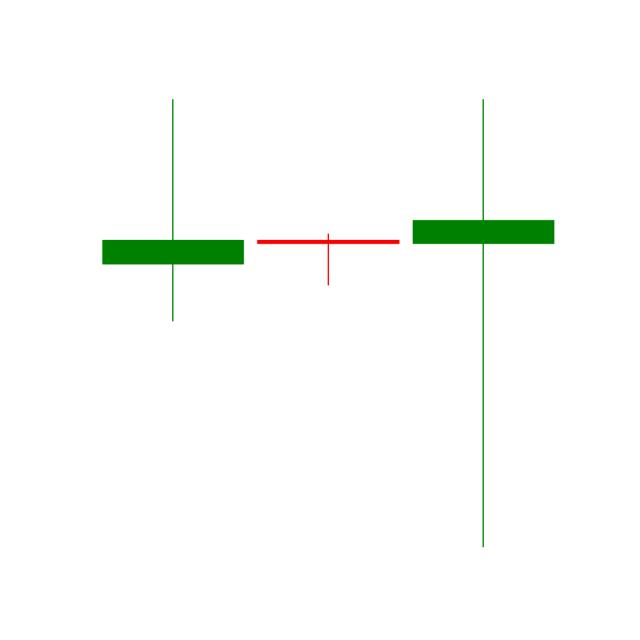Dragonfly Doji: (249, 232, 406, 286)
Gravenstone Doji: (101, 94, 244, 324)
Long-Legged Doji: (411, 99, 556, 550)
